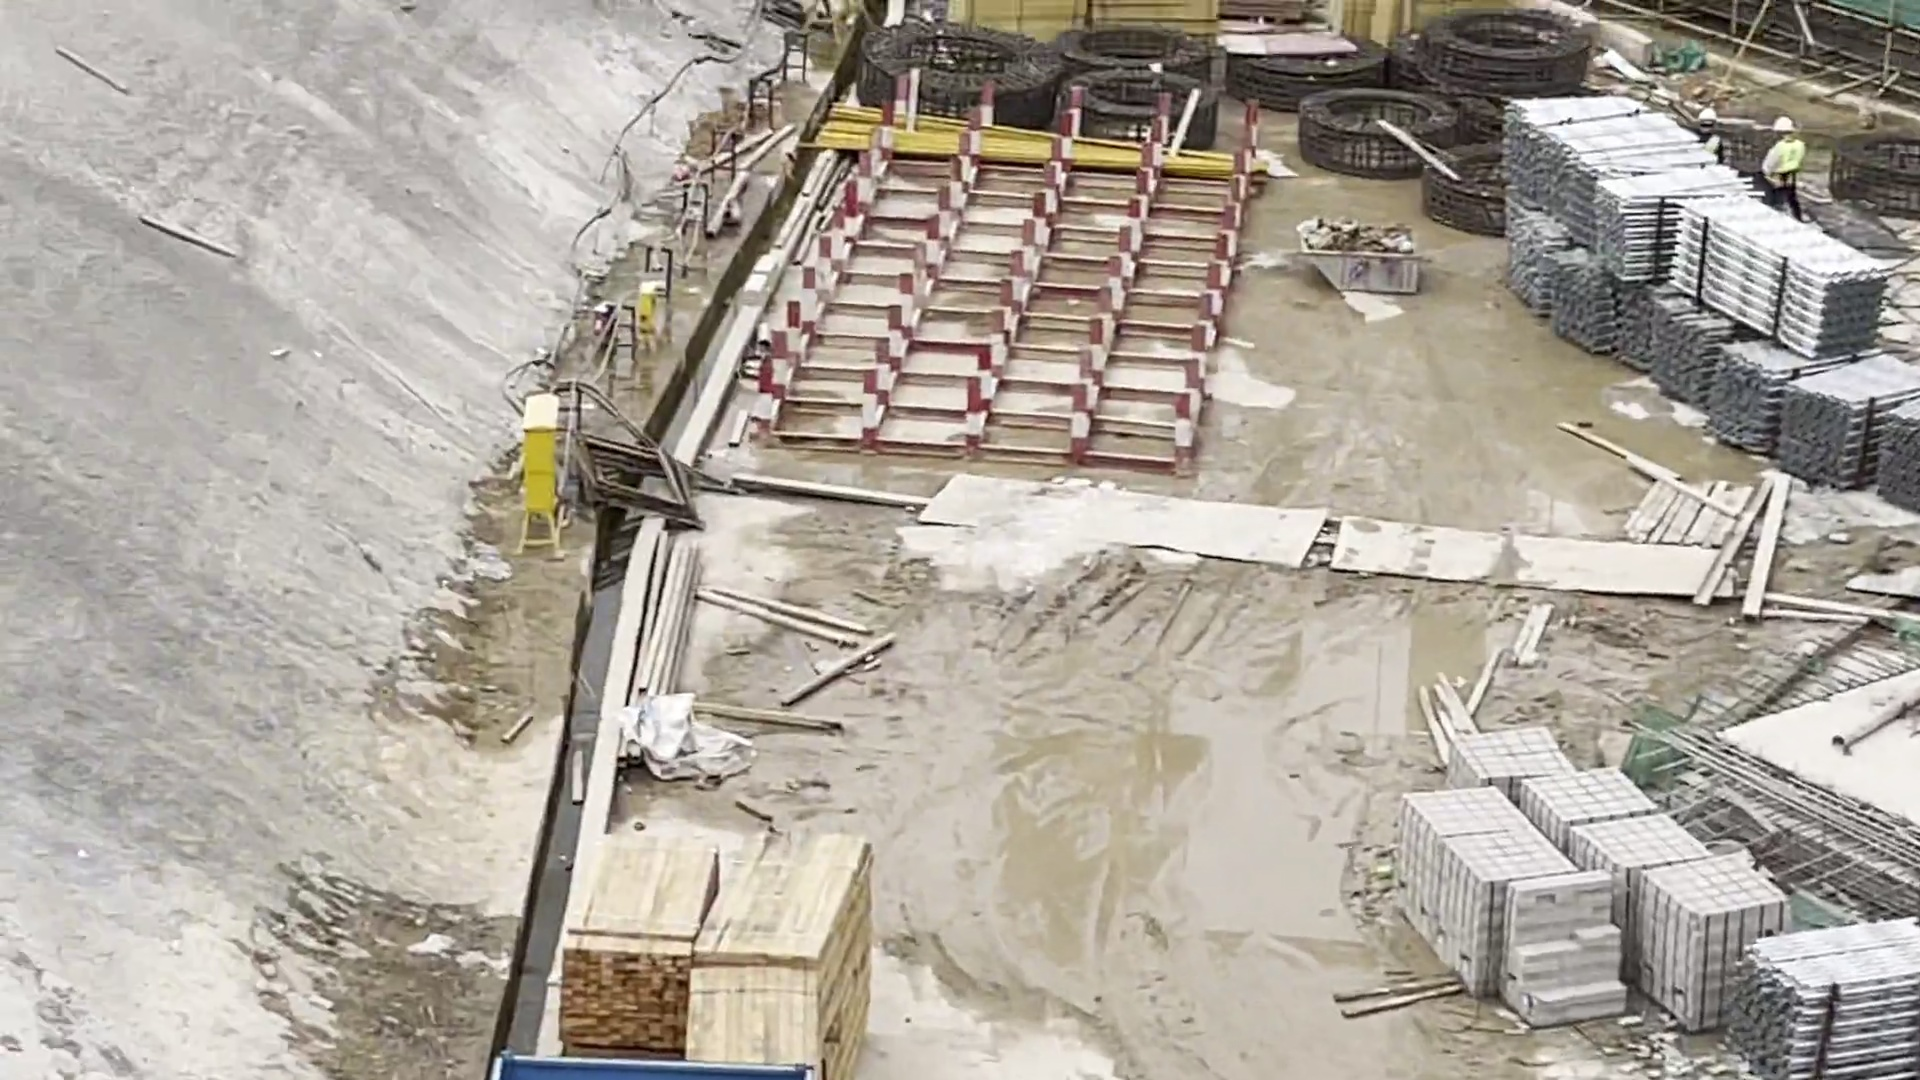brick: (1392, 720, 1785, 1033)
ebox: (519, 394, 564, 553)
helmet: (1772, 115, 1797, 134), (1696, 105, 1718, 122)
hopper: (1299, 221, 1422, 298)
person: (1760, 116, 1814, 222), (1682, 103, 1725, 159)
scaffold: (1500, 93, 1920, 508), (1739, 915, 1920, 1070)
vest: (1771, 138, 1804, 174)
wood: (563, 825, 876, 1080)
